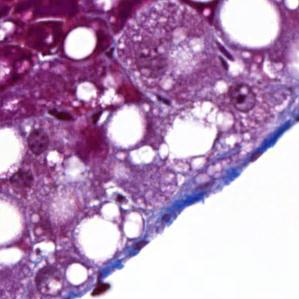inflammation: (212, 35, 239, 72), (47, 101, 79, 128)
